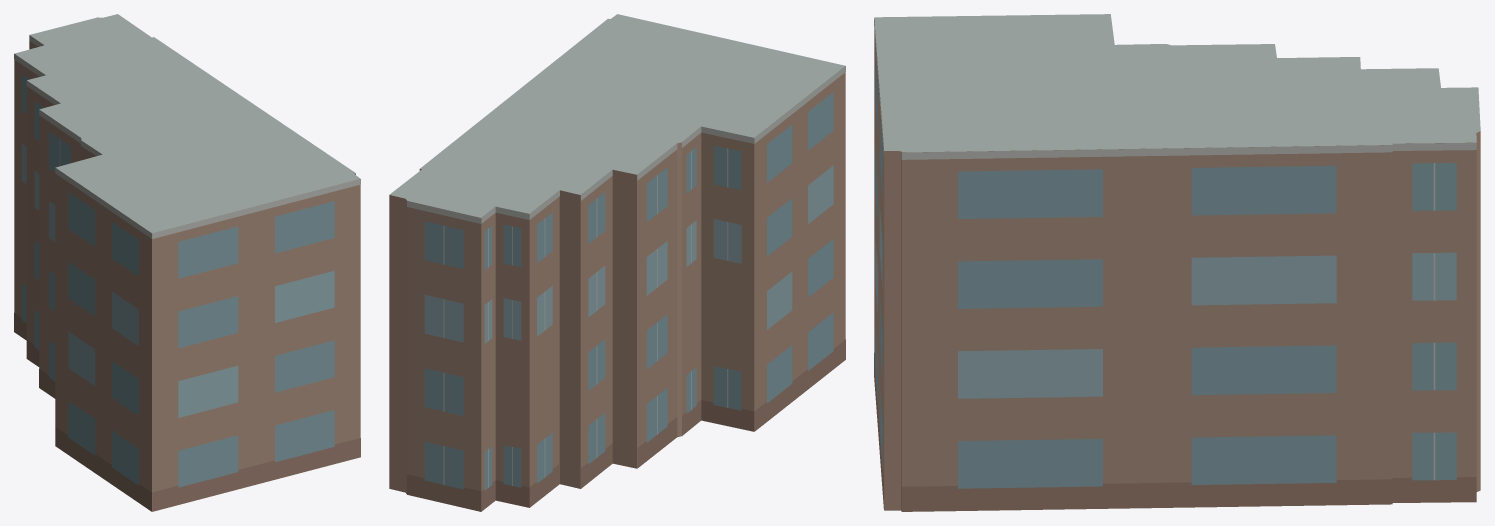
File: survey-upis-32722446.glb
3 renders of one model, left to right at view 1: azimuth 30°, elevation 25°; view 2: azimuth 150°, elevation 25°; view 3: azimuth 270°, elevation 25°, orthographic. The views are drawn at different scales.
Parts seen in each view (by area): view 1: survey-upis-32722446.tmp; view 2: survey-upis-32722446.tmp; view 3: survey-upis-32722446.tmp.
Boxes of the visible parts, box(x1,y1,x2,y2) form: survey-upis-32722446.tmp: box(14, 14, 360, 511); survey-upis-32722446.tmp: box(389, 14, 845, 511); survey-upis-32722446.tmp: box(874, 14, 1480, 511).
Bounding box in the file's own units: 9.73 × 11.77 × 18.01.
